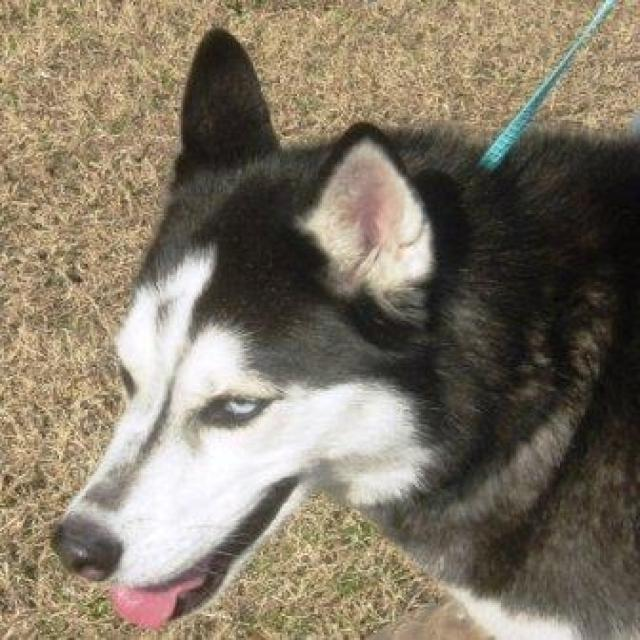Dogs: (50, 24, 638, 638)
